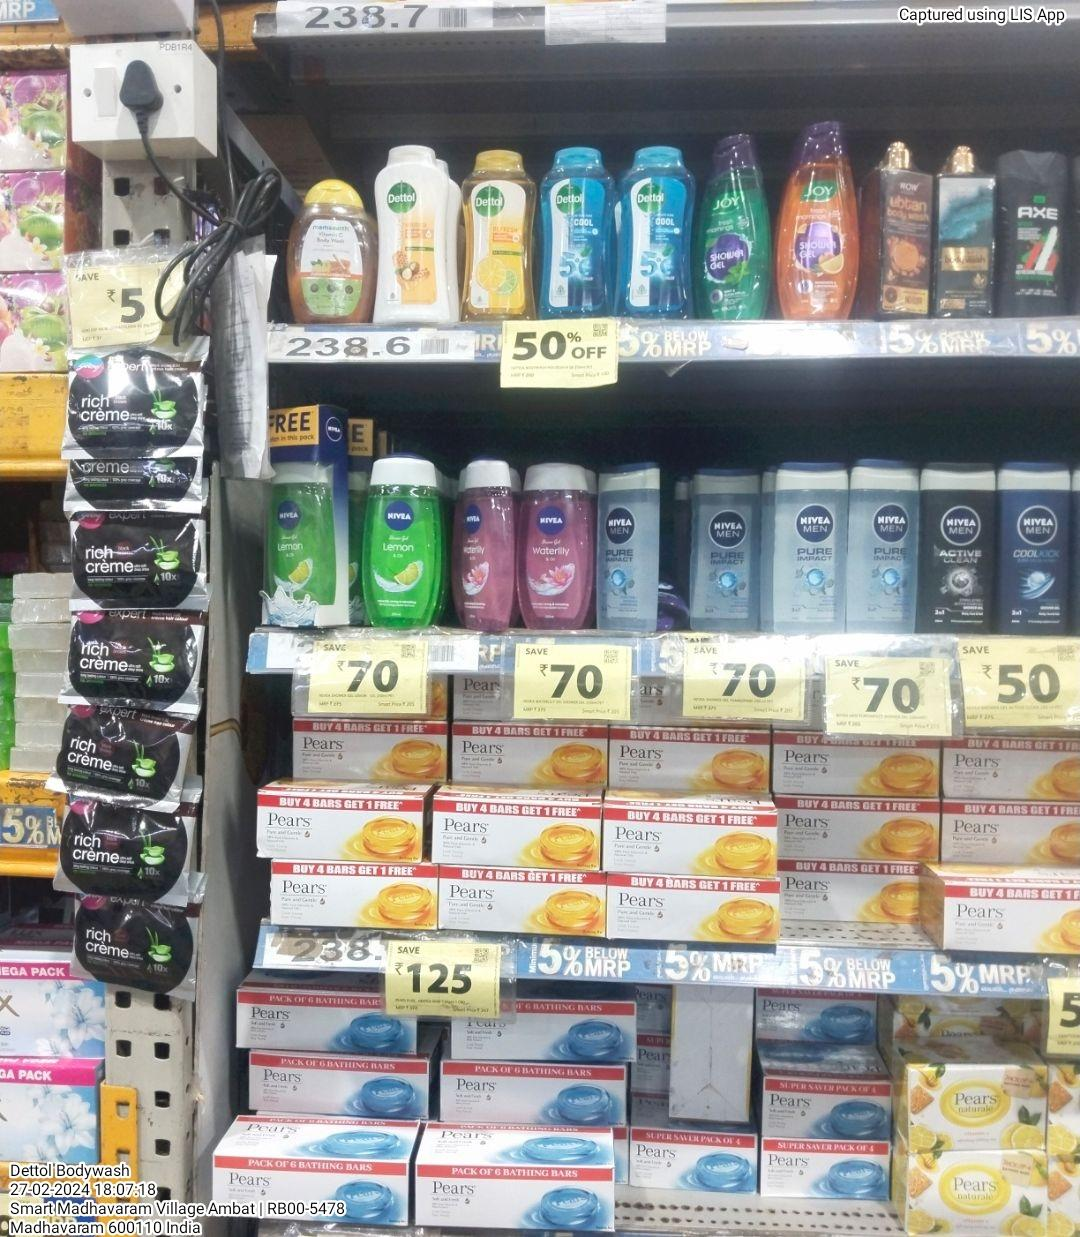Dettol_Bodywash_Cool: (542, 144, 613, 320), (623, 146, 693, 319)
Dettol_Bodywash_Refresh: (465, 147, 535, 323)
Dettol_Nourish_Body_Wash_250ML: (376, 140, 446, 329)
Joy_Shower_Gel_Mandarin_and_Lemongrass_250ML: (777, 117, 860, 322)
Joy_Shower_Gel_Mint_and_Eucalyptus_250ML: (696, 131, 766, 322)
Nivea_Shower_Gel_Lemon_and_Oil_250ML: (366, 453, 435, 629)
Nivea_Shower_Gel_Waterlily_and_Oil_250ML: (515, 460, 587, 633), (456, 458, 506, 632)
